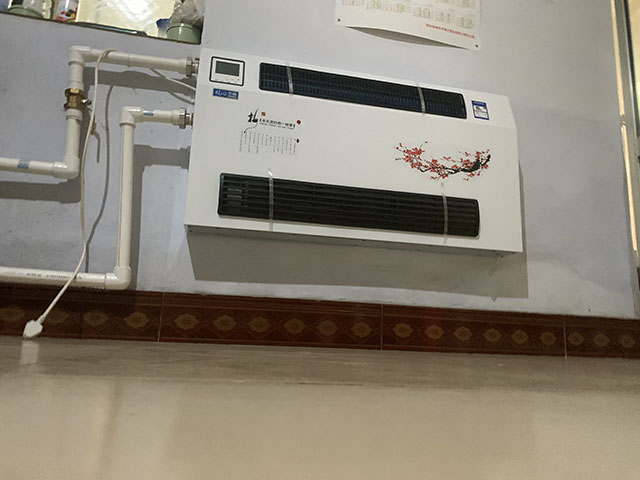wire: (21, 47, 197, 342)
